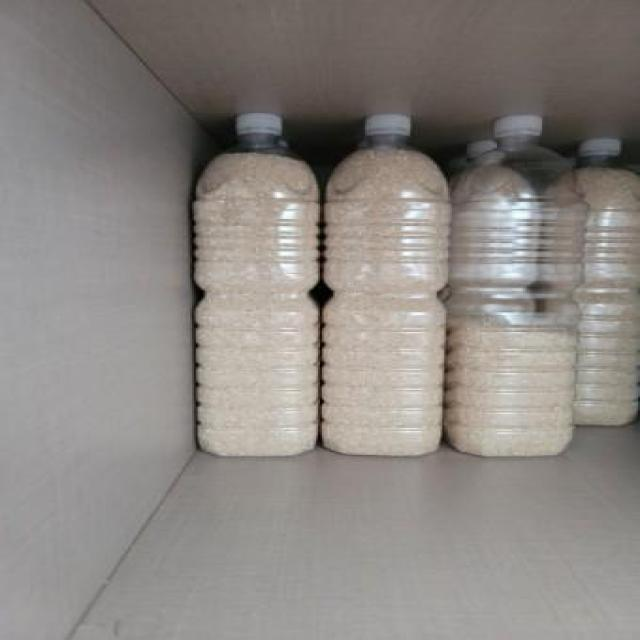bottle: (441, 114, 584, 458), (192, 113, 326, 454), (320, 114, 448, 455), (570, 131, 640, 439)
